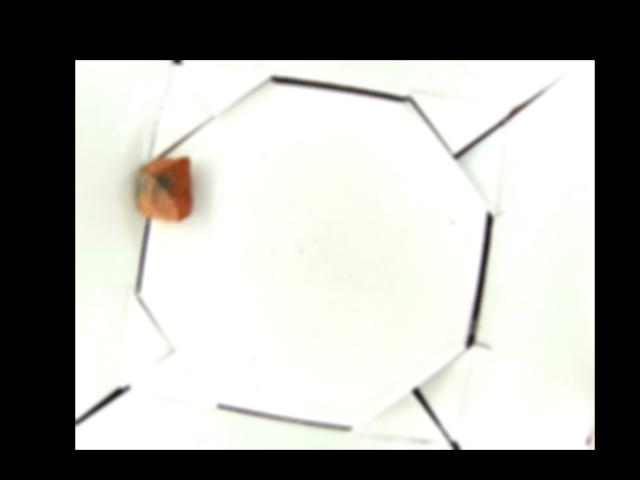Brisk: (134, 155, 194, 220)
